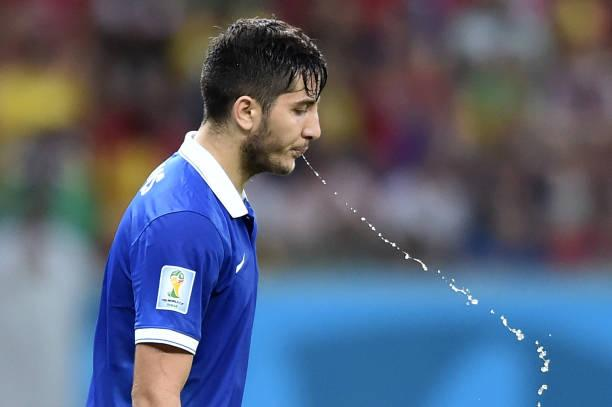Spitting: (205, 9, 348, 193)
